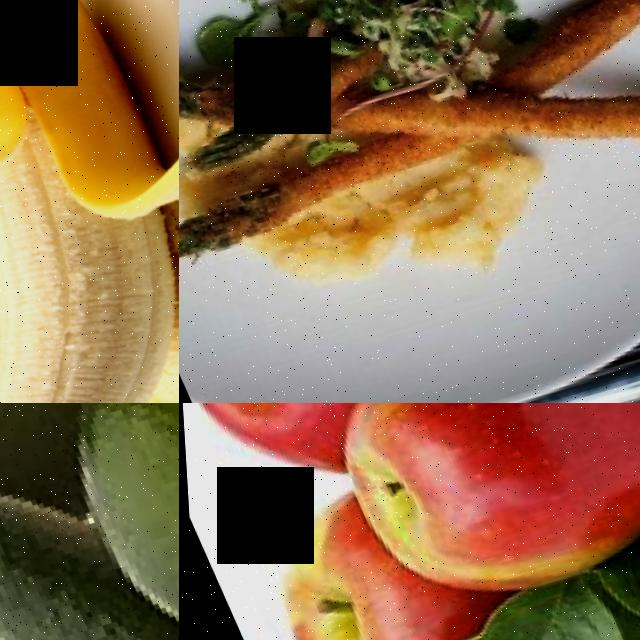apple: (295, 403, 640, 640), (220, 474, 442, 640)
avocado: (0, 403, 179, 640), (0, 414, 179, 640), (0, 403, 108, 595), (0, 558, 136, 640)
banana: (0, 0, 179, 403)
